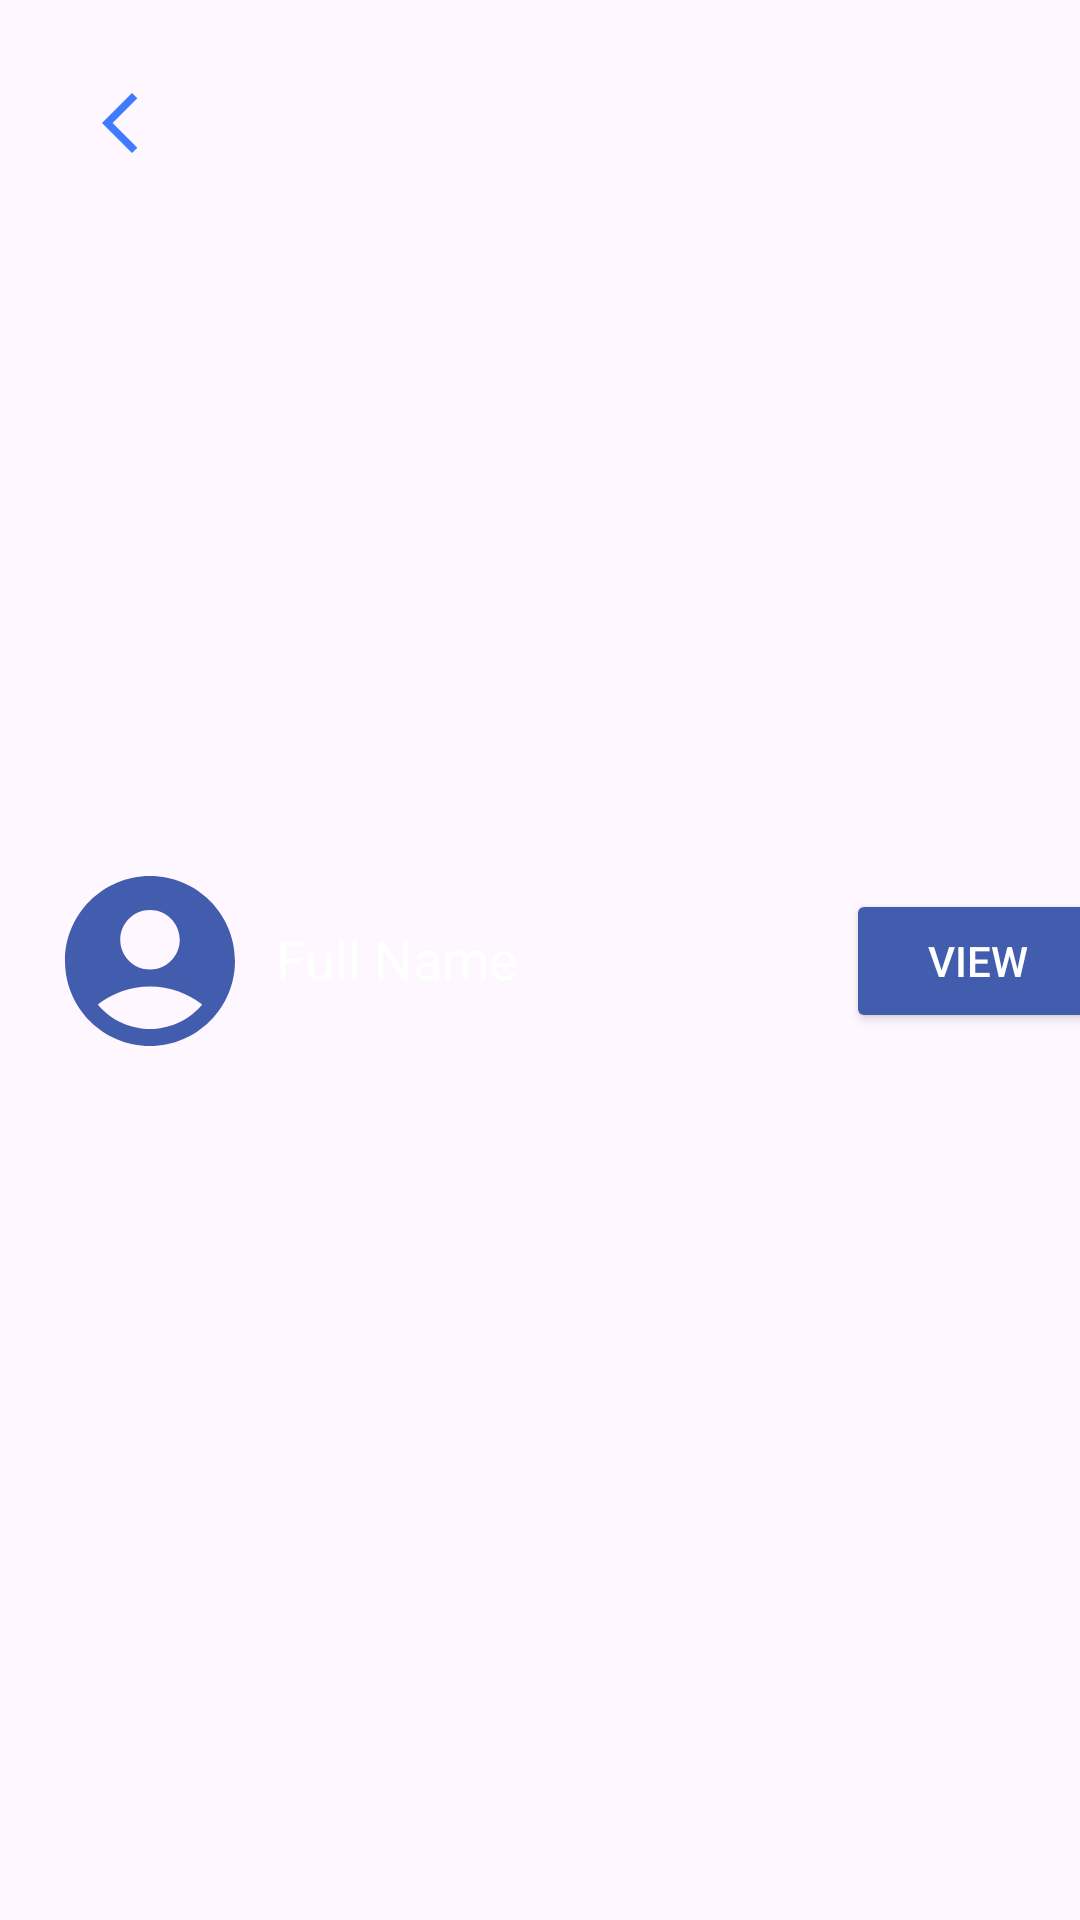

Where icons sit on this 1080*1920 app screen, as region(x1, y1, x2, y2):
Back: region(102, 93, 137, 153)
Profile Picture: region(65, 876, 235, 1046)
